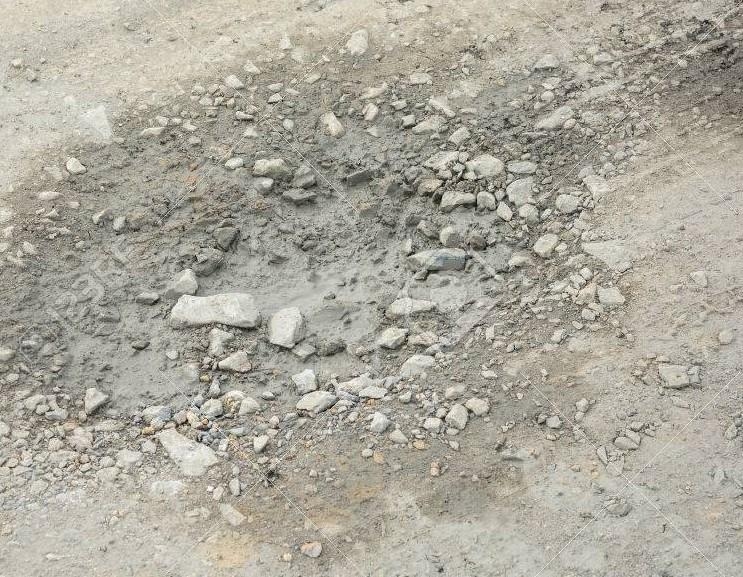pothole: (19, 68, 606, 507)
